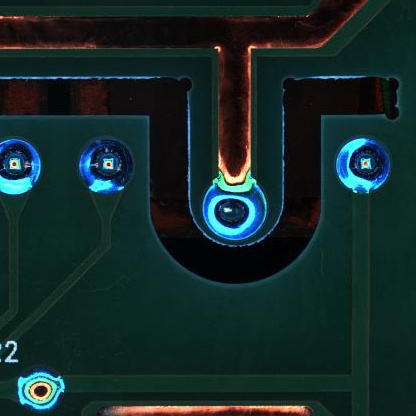spot: (200, 173, 268, 239), (332, 135, 395, 195), (77, 137, 137, 194), (12, 367, 70, 412), (1, 135, 43, 197)
